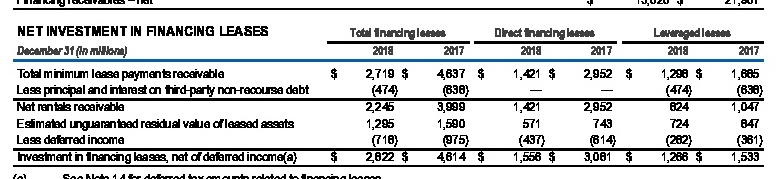table: (0, 0, 781, 179)
